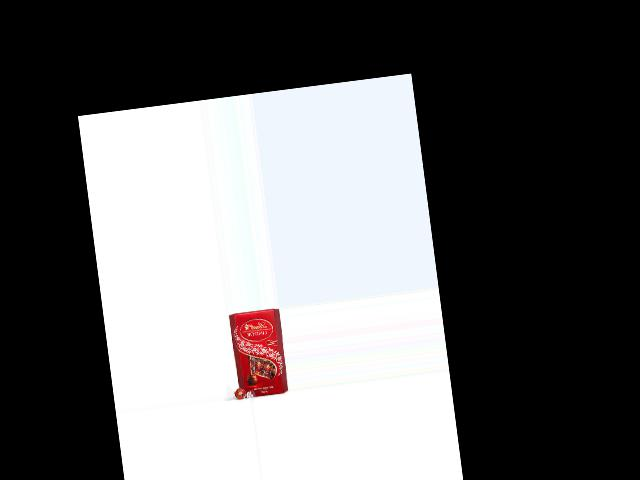chocolate: (223, 308, 288, 399)
